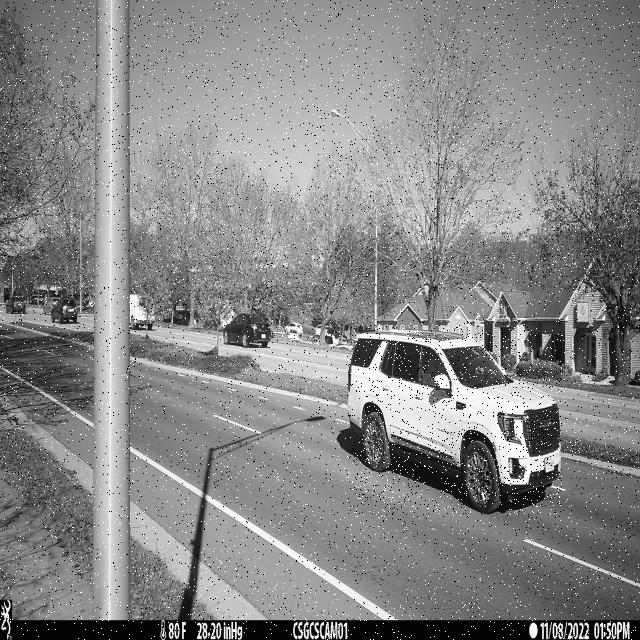SUV: (348, 327, 562, 515)
